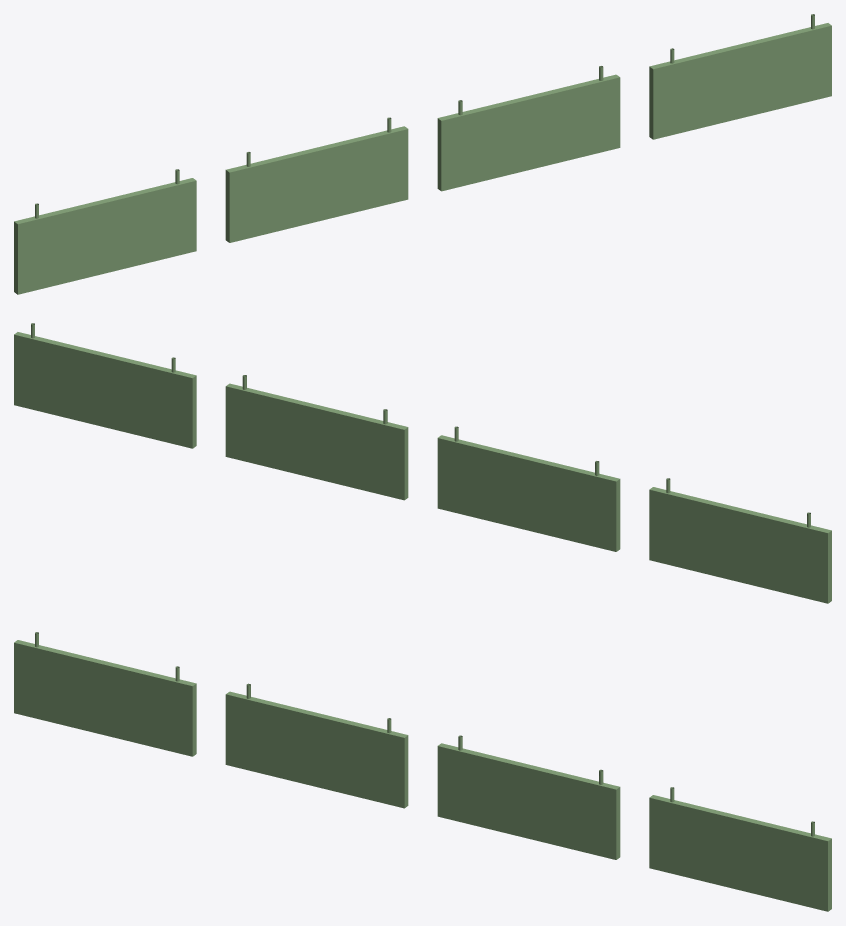
File: SM_SignHang_01.fbx
3 renders of one model, top to bottom at view 1: azimuth 30°, elevation 25°; view 2: azimuth 150°, elevation 25°; view 3: azimuth 330°, elevation 25°, orthographic.
Parts seen in each view (by area): view 1: SM_SignHang_01b, SM_SignHang_01c, SM_SignHang_01a, SM_SignHang_01d; view 2: SM_SignHang_01c, SM_SignHang_01b, SM_SignHang_01a, SM_SignHang_01d; view 3: SM_SignHang_01c, SM_SignHang_01b, SM_SignHang_01d, SM_SignHang_01a.
Boxes of the visible parts, box(x1,y1,x2,y2) form: SM_SignHang_01b: box(225, 117, 408, 242); SM_SignHang_01c: box(437, 66, 620, 191); SM_SignHang_01a: box(14, 169, 196, 294); SM_SignHang_01d: box(649, 14, 831, 139); SM_SignHang_01c: box(225, 375, 408, 500); SM_SignHang_01b: box(437, 426, 620, 551); SM_SignHang_01a: box(649, 478, 831, 603); SM_SignHang_01d: box(14, 323, 196, 448); SM_SignHang_01c: box(437, 735, 620, 859); SM_SignHang_01b: box(225, 683, 408, 808); SM_SignHang_01d: box(649, 787, 831, 911); SM_SignHang_01a: box(14, 632, 196, 756).
Size of the model in its own units: 692 by 68.17 by 5.67.
